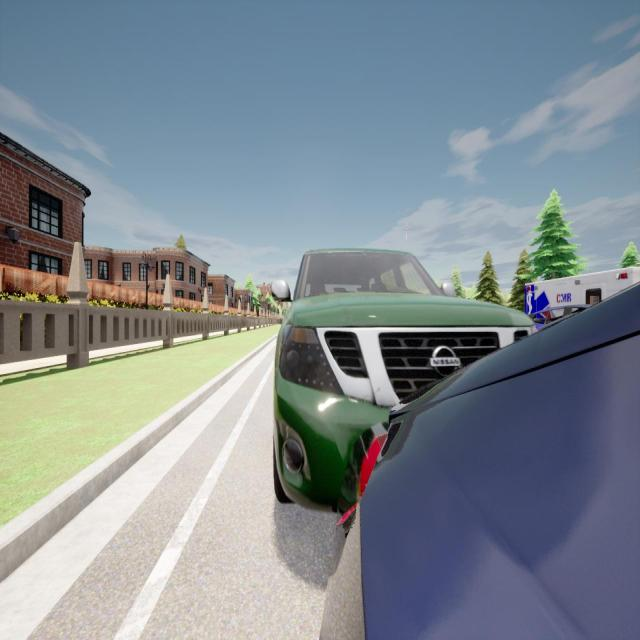Vehicle: (320, 284, 640, 637), (272, 249, 532, 509), (524, 267, 640, 319)
